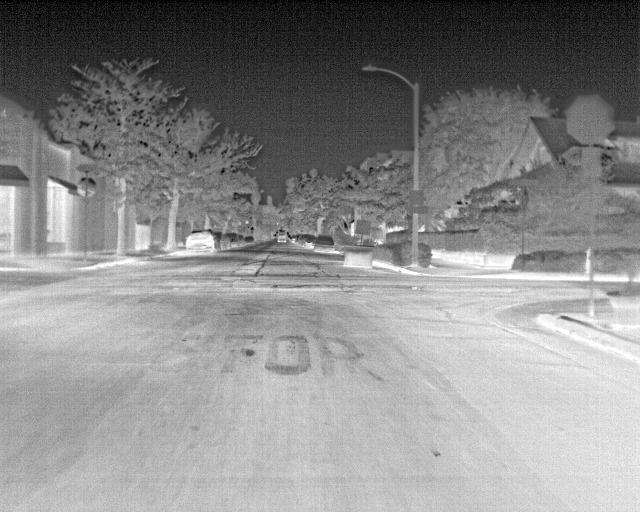bicycle: (184, 230, 215, 251), (312, 235, 334, 254), (212, 230, 231, 249), (225, 233, 240, 249), (303, 236, 318, 250), (274, 232, 289, 244), (241, 235, 255, 247)
